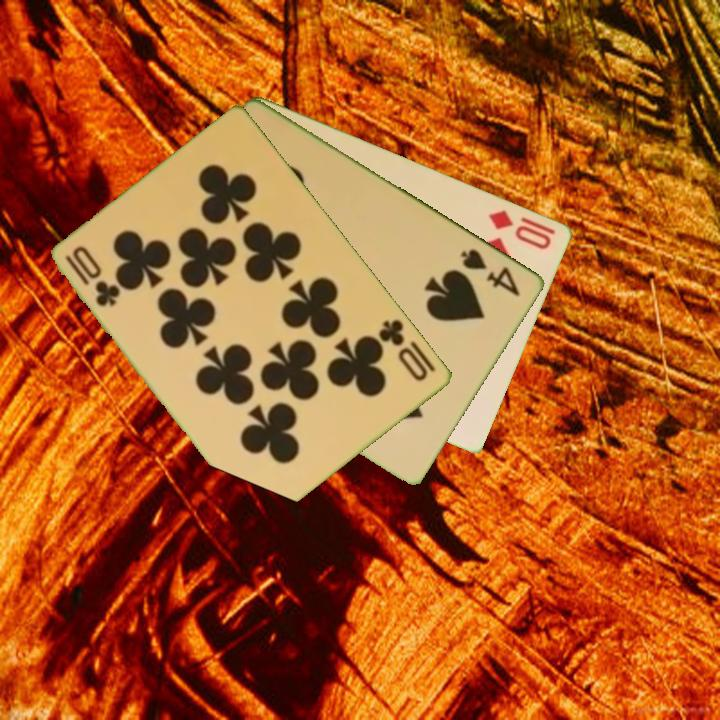10c: (61, 242, 124, 310), (375, 315, 432, 385)
10d: (485, 205, 559, 253)
4s: (457, 245, 524, 300)
